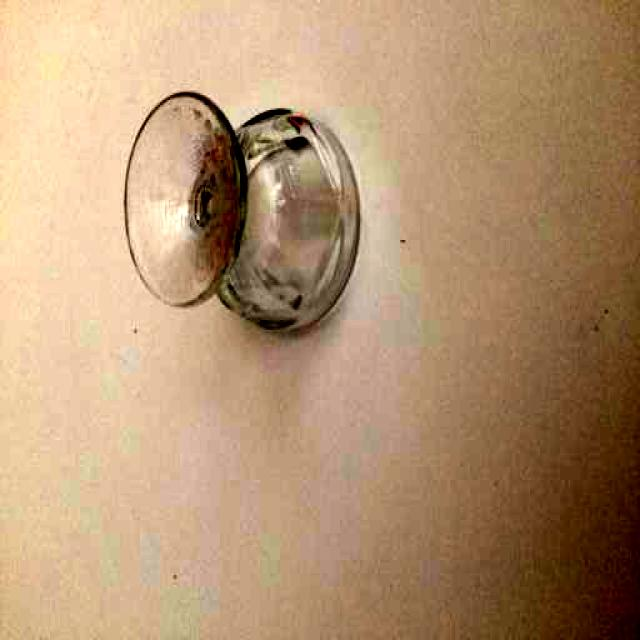Glass: (125, 92, 359, 329)
